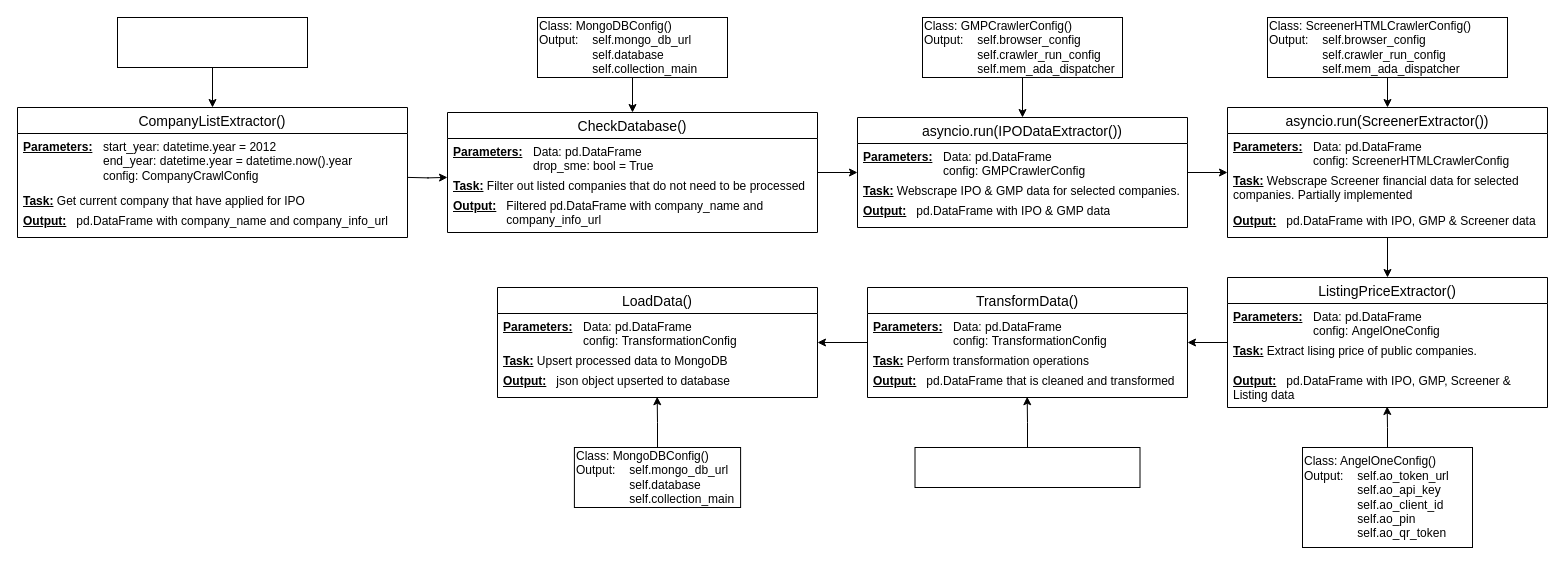
Some shapes in this 1565 by 565 pixel diagram are drawn without their labels. Each missing label, with the centre of its shape:
"Class: CompanyCrawlConfig() Output: self.browser_config self.crawler_run_config" belongs at (212,42).
"Class: TransformationConfig() Output: self.transformation_file_name" belongs at (1027,467).
